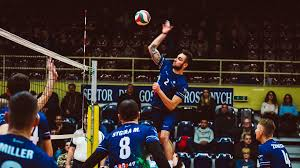ball: (134, 9, 151, 25)
